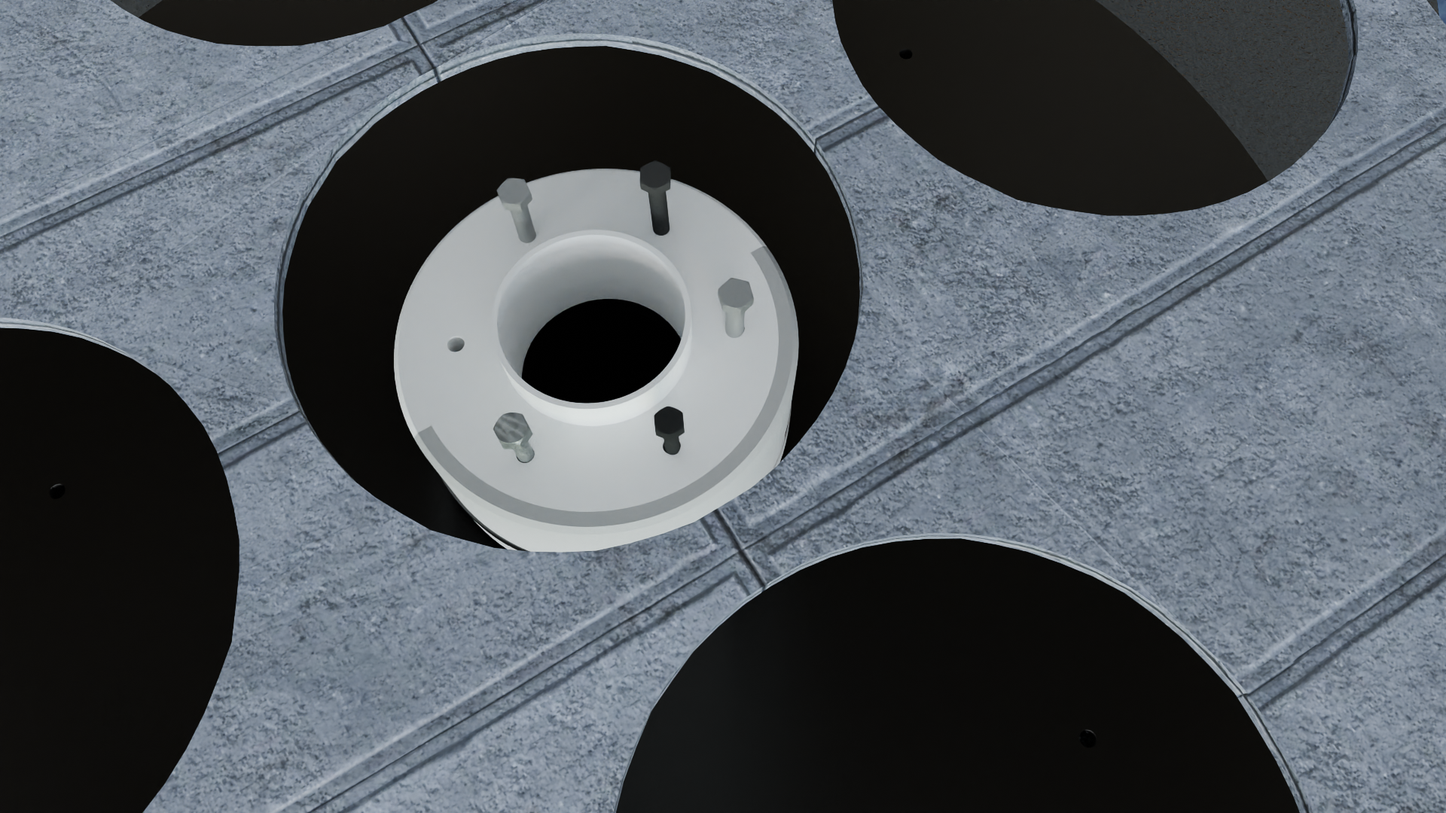bolt: (493, 413, 531, 445), (718, 278, 754, 310), (654, 406, 685, 437), (639, 160, 670, 190), (497, 178, 531, 205)
